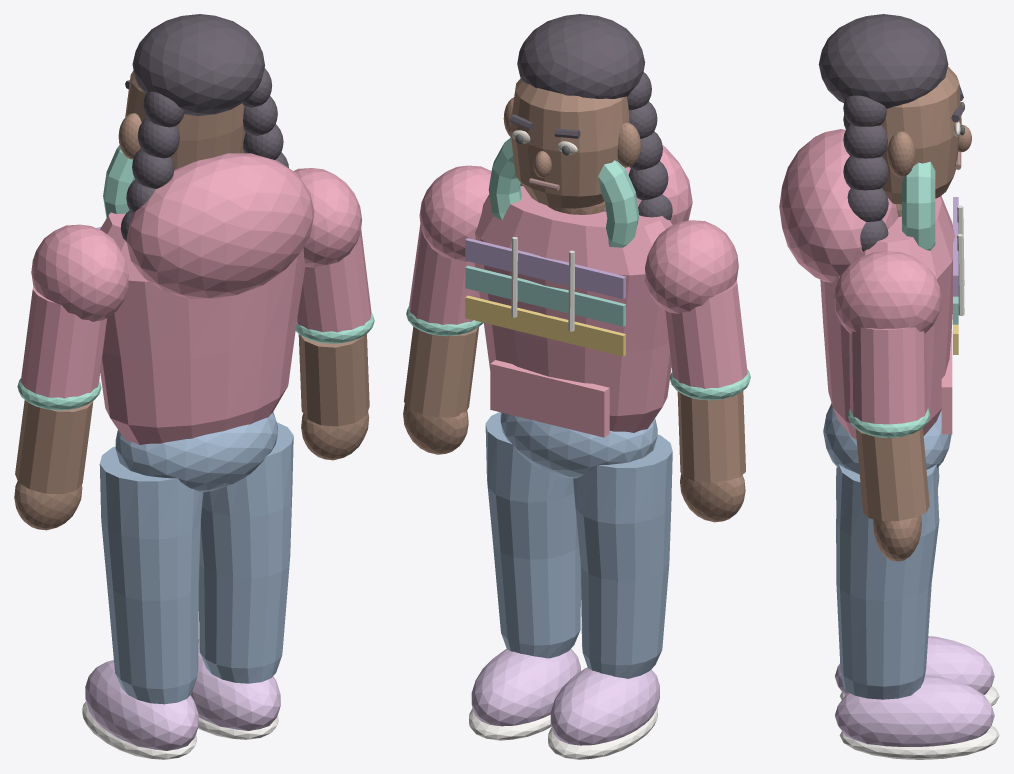
File: rainbow_female.glb
The picture shows the model from 3 angles, left to right: view 1: azimuth 30°, elevation 25°; view 2: azimuth 150°, elevation 25°; view 3: azimuth 270°, elevation 25°; orthographic projection. The views are drawn at different scales.
Visible parts, largest first — view 1: Body_Torso_002, LL_Pant_041, Body_Hood_004, RL_Pant_046, Body_HairCap_020, LA_Shoulder_031, Body_Pelvis_003, LA_Sleeve_032, LA_Forearm_034, RA_Forearm_039, LL_Sneaker_042, RA_Sleeve_037 (+16 smaller); view 2: Body_Torso_002, LL_Pant_041, RL_Pant_046, Body_Face_009, Body_HairCap_020, LA_Shoulder_031, LL_Sneaker_042, LA_Sleeve_032, RL_Sneaker_047, Body_HoodPocket_008, Body_Pelvis_003, LA_Forearm_034 (+20 smaller); view 3: RL_Pant_046, Body_Hood_004, Body_HairCap_020, Body_Torso_002, RL_Sneaker_047, RA_Sleeve_037, RA_Shoulder_036, RA_Forearm_039, Body_Face_009, LL_Sneaker_042, Body_HoodOpening_005, Body_Pelvis_003 (+12 smaller).
Boxes of the visible parts, box(x1,y1,x2,y2) form: Body_Torso_002: box(100, 212, 305, 444); LL_Pant_041: box(99, 446, 203, 704); Body_Hood_004: box(126, 153, 314, 298); RL_Pant_046: box(199, 422, 293, 683); Body_HairCap_020: box(132, 14, 264, 115); LA_Shoulder_031: box(31, 224, 128, 321); Body_Pelvis_003: box(115, 411, 277, 491); LA_Sleeve_032: box(20, 286, 107, 398); LA_Forearm_034: box(15, 400, 93, 493); RA_Forearm_039: box(298, 334, 369, 426); LL_Sneaker_042: box(85, 660, 198, 750); RA_Sleeve_037: box(296, 229, 371, 332); Body_Torso_002: box(474, 186, 672, 432); LL_Pant_041: box(572, 434, 672, 678); RL_Pant_046: box(485, 412, 580, 658); Body_Face_009: box(510, 78, 629, 208); Body_HairCap_020: box(517, 14, 645, 98); LA_Shoulder_031: box(645, 220, 738, 313); LL_Sneaker_042: box(550, 667, 659, 745); LA_Sleeve_032: box(665, 280, 747, 388); RL_Sneaker_047: box(471, 649, 580, 726); Body_HoodPocket_008: box(490, 360, 609, 437); Body_Pelvis_003: box(500, 412, 657, 478); LA_Forearm_034: box(677, 391, 745, 482); RL_Pant_046: box(836, 464, 939, 699); Body_Hood_004: box(779, 129, 897, 282); Body_HairCap_020: box(818, 14, 948, 108); Body_Torso_002: box(820, 196, 954, 439); RL_Sneaker_047: box(835, 675, 994, 746); RA_Sleeve_037: box(849, 327, 927, 424); RA_Shoulder_036: box(833, 251, 941, 333); RA_Forearm_039: box(855, 428, 929, 521); Body_Face_009: box(881, 66, 961, 204); LL_Sneaker_042: box(835, 636, 994, 695); Body_HoodOpening_005: box(902, 161, 935, 250); Body_Pelvis_003: box(823, 403, 951, 474).
Size of the model in its own units: 1.54 by 3.03 by 0.854.
